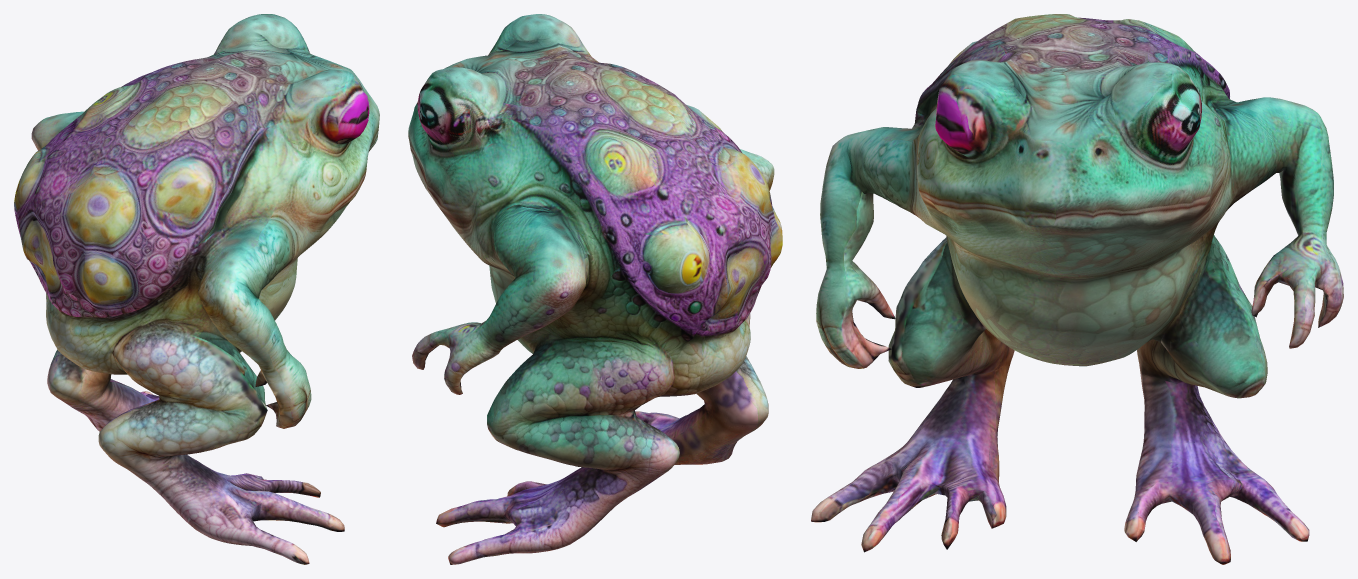
The model's file is rpg_cyberpunk_TOAD_wa_0907205748_refine.glb.
3 renders of one model, left to right at view 1: azimuth 30°, elevation 25°; view 2: azimuth 150°, elevation 25°; view 3: azimuth 270°, elevation 25°, orthographic. The views are drawn at different scales.
Size of the model in its own units: 0.9697 by 1.2 by 1.13.
Materials: 1 (1 with a texture image).
